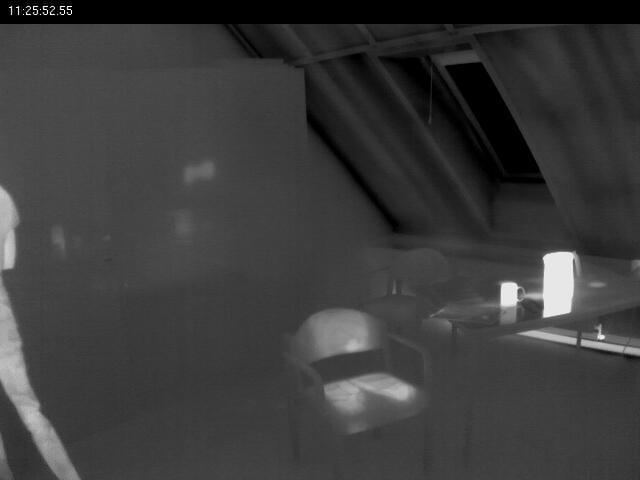person: (0, 175, 82, 480)
